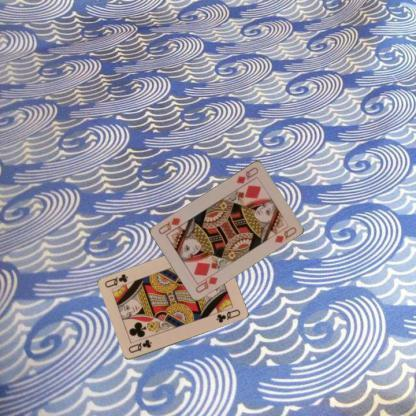Qc: (126, 337, 153, 354)
Qd: (193, 269, 219, 294), (233, 164, 260, 185)
